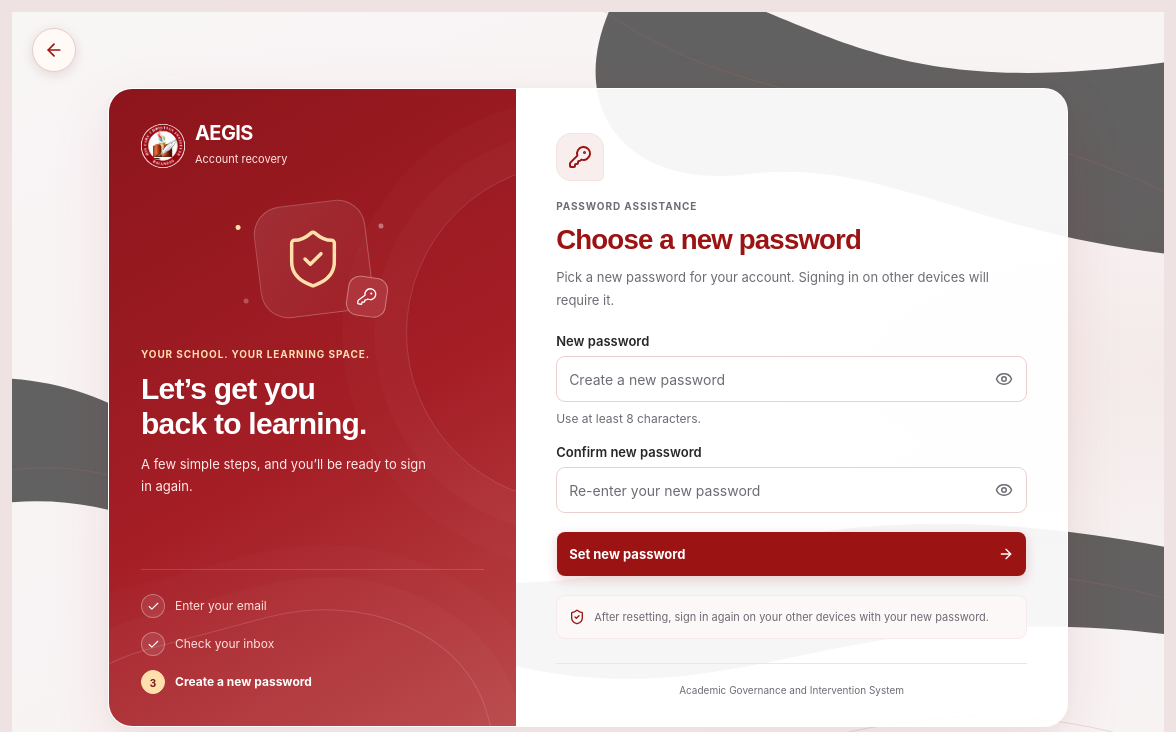
Scenario: ResetPasswordPage › shows each password independently without changing values or submitting
Type "brandnewpass1" into the password field labelled "New password" at (792, 379), box x1=556 y1=356 x2=1027 y2=402
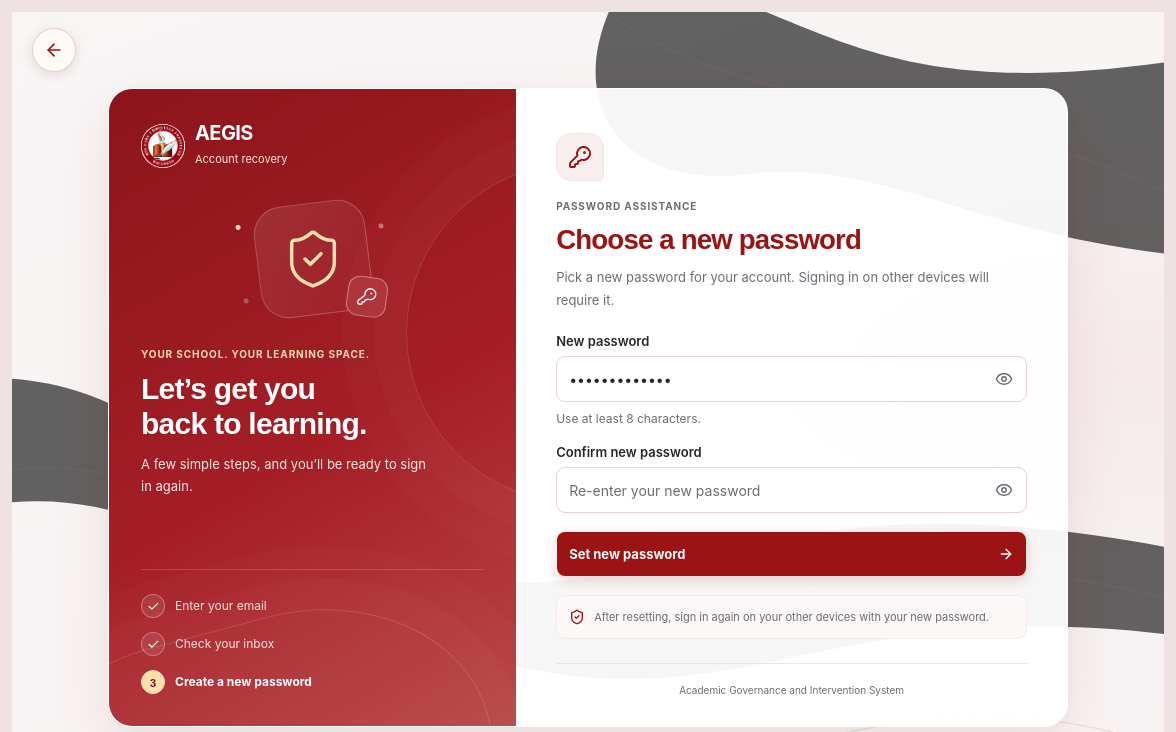
Type "brandnewpass1" into the password field labelled "Confirm new password" at (792, 490), box x1=556 y1=467 x2=1027 y2=513
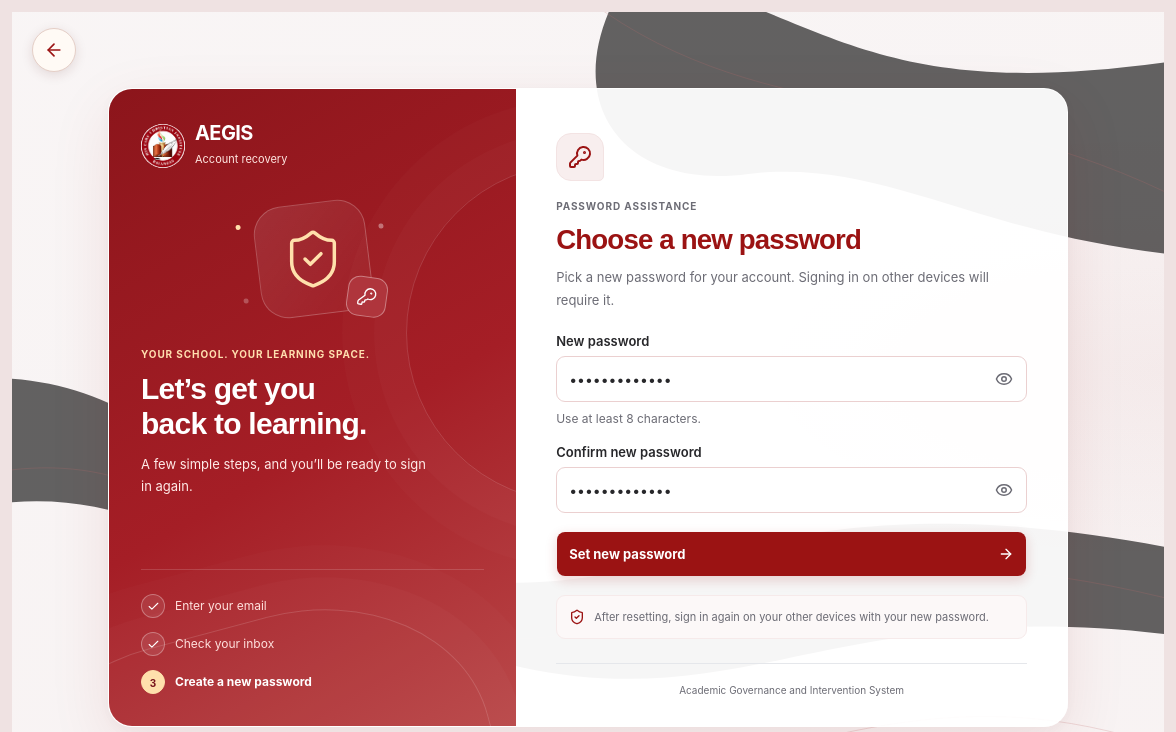
Click the button named "Show new password" at (1004, 379), box x1=982 y1=357 x2=1026 y2=401
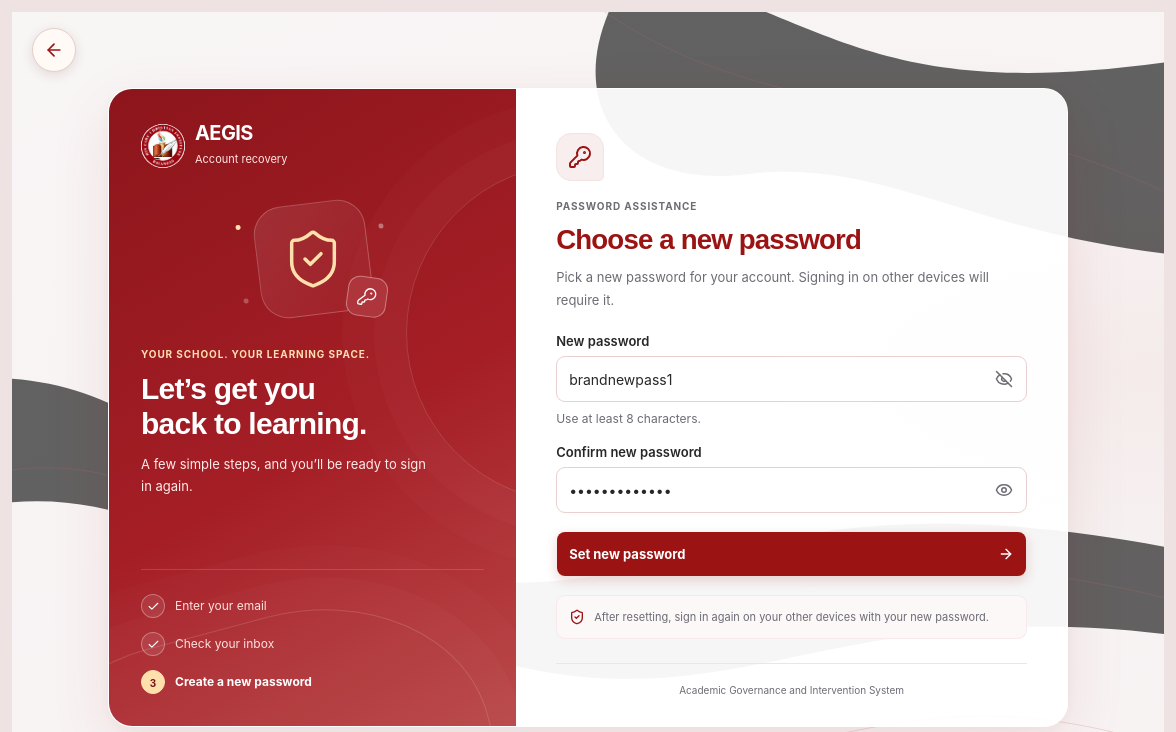
Check: the field labelled "New password" shows its text, box x1=556 y1=356 x2=1027 y2=402
Click the button named "Hide new password" at (1004, 379), box x1=982 y1=357 x2=1026 y2=401
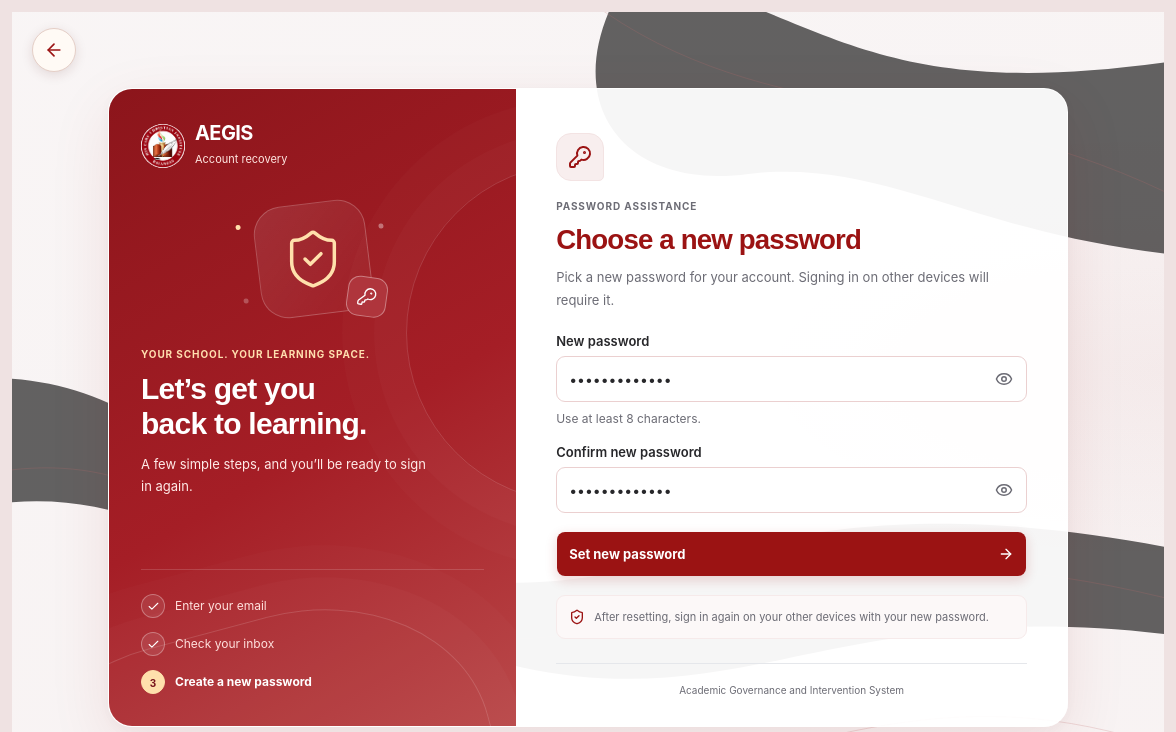
Check: the password field labelled "New password" hides its text, box x1=556 y1=356 x2=1027 y2=402
Click the button named "Show password confirmation" at (1004, 490), box x1=982 y1=468 x2=1026 y2=512
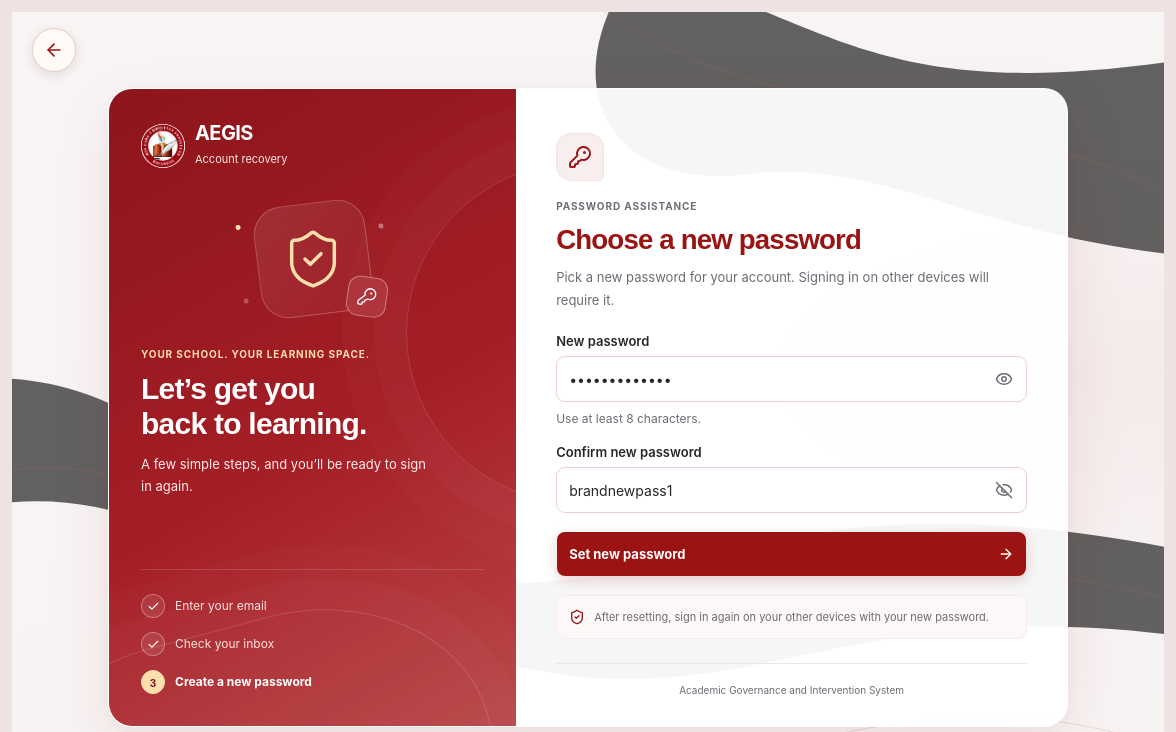
Check: the field labelled "Confirm new password" shows its text, box x1=556 y1=467 x2=1027 y2=513
